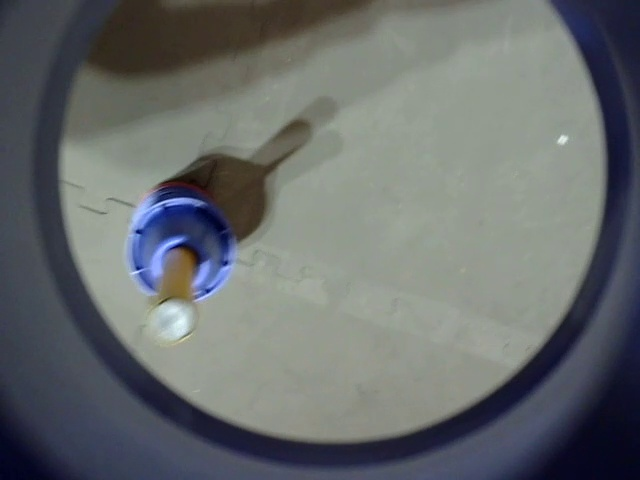tip: (145, 281, 202, 349)
